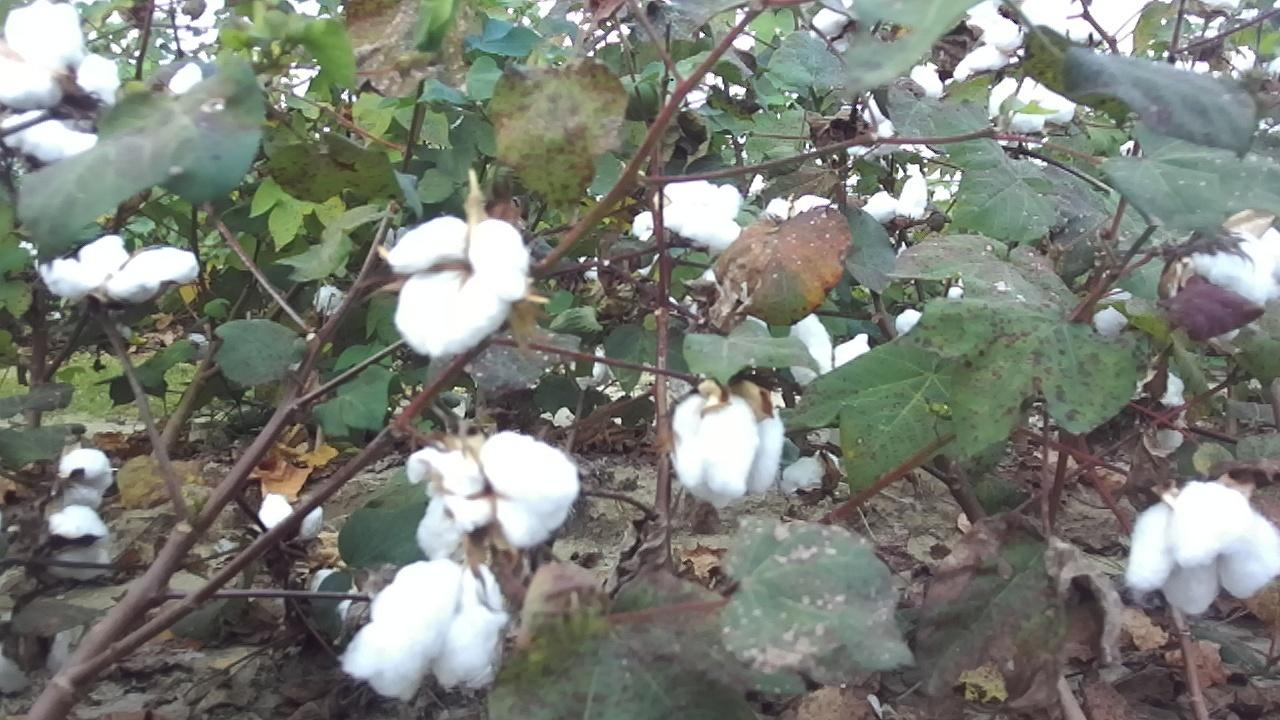cotton_ready: (342, 561, 510, 702), (405, 432, 579, 558), (388, 215, 530, 357), (0, 0, 121, 162), (1132, 480, 1280, 610), (674, 389, 784, 510), (28, 234, 204, 303), (1186, 225, 1275, 310), (652, 178, 742, 250), (43, 507, 107, 583), (56, 447, 110, 512), (863, 170, 928, 220)
